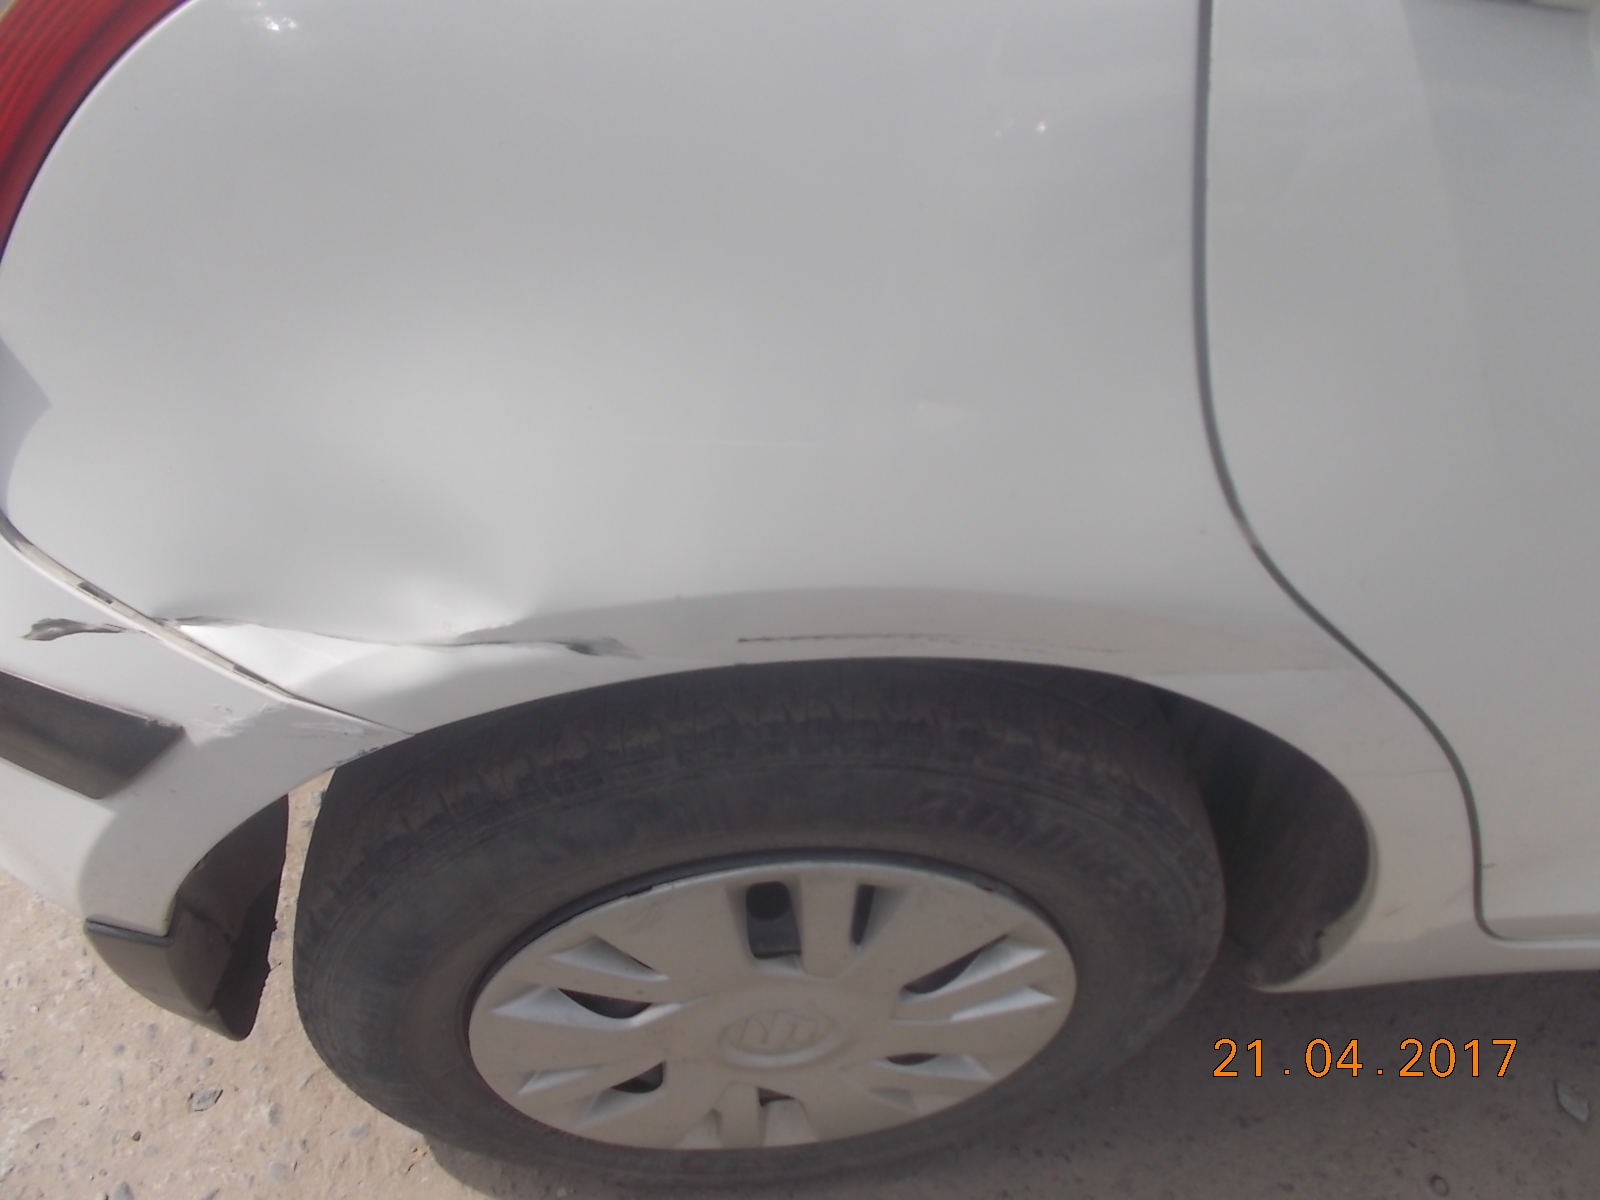Dent: (241, 562, 587, 674)
